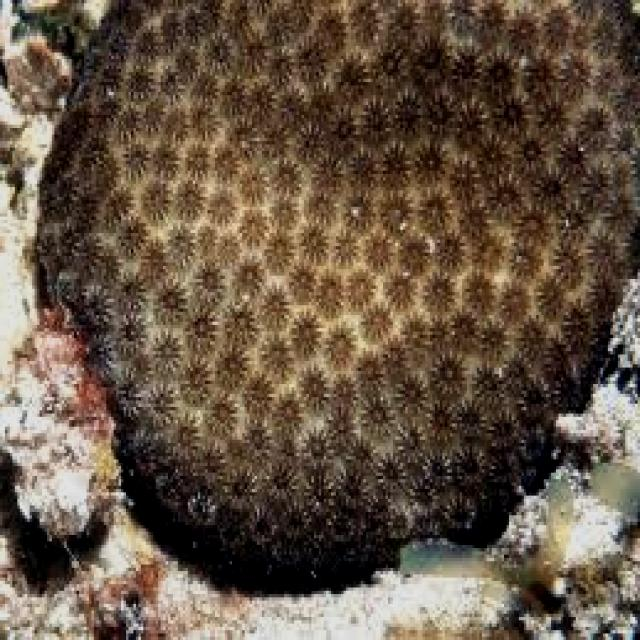Coral: (37, 0, 640, 574)
